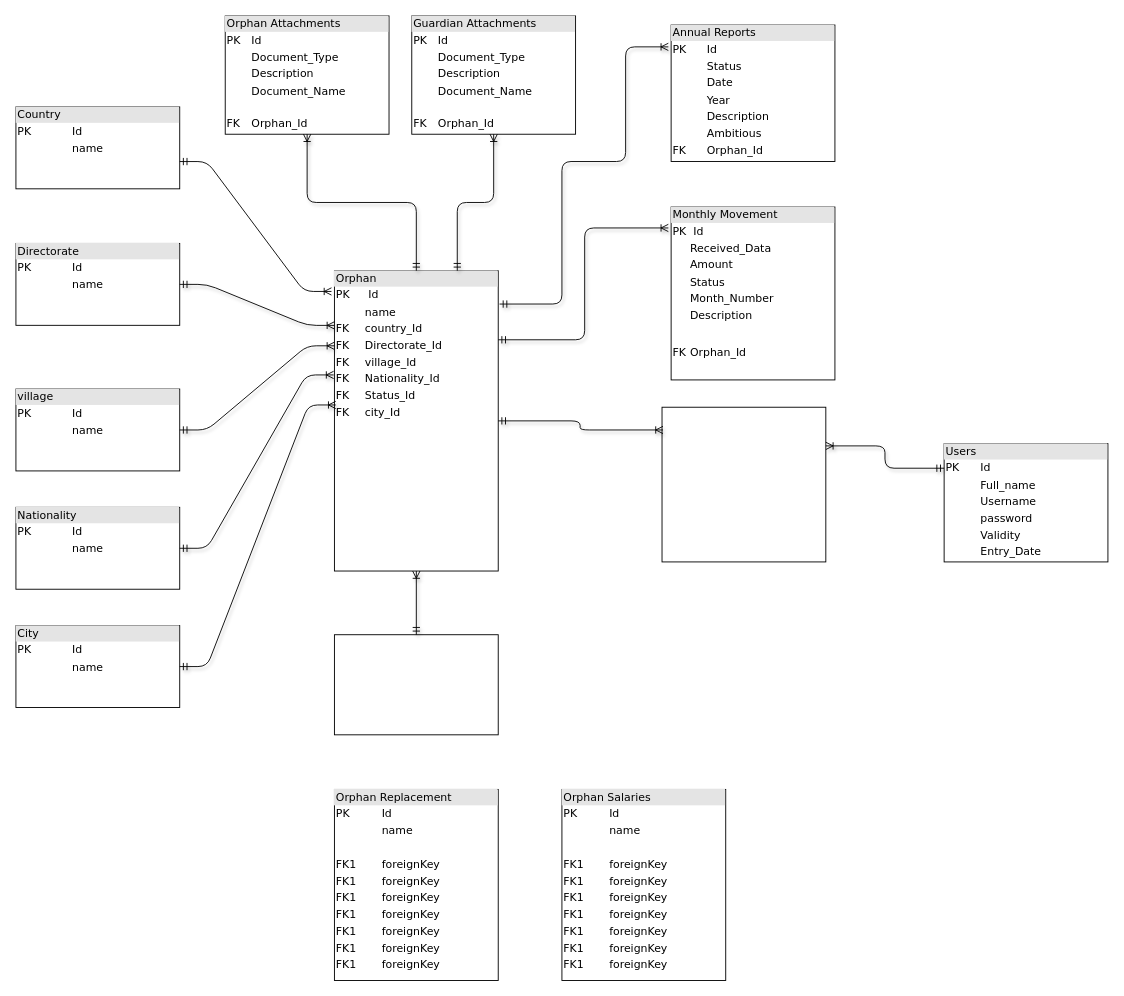
Image size: 1124x996. Some labels were removed from this diagram. Here are the shapes that lost their labels. From the top down, the centre of each, then its label:
At (743,484): "Data Review PK Id Order_Status Reason Remarks Side Date User_Id FK Orphan_Id".
At (416,684): "Order Status PK Id name".
